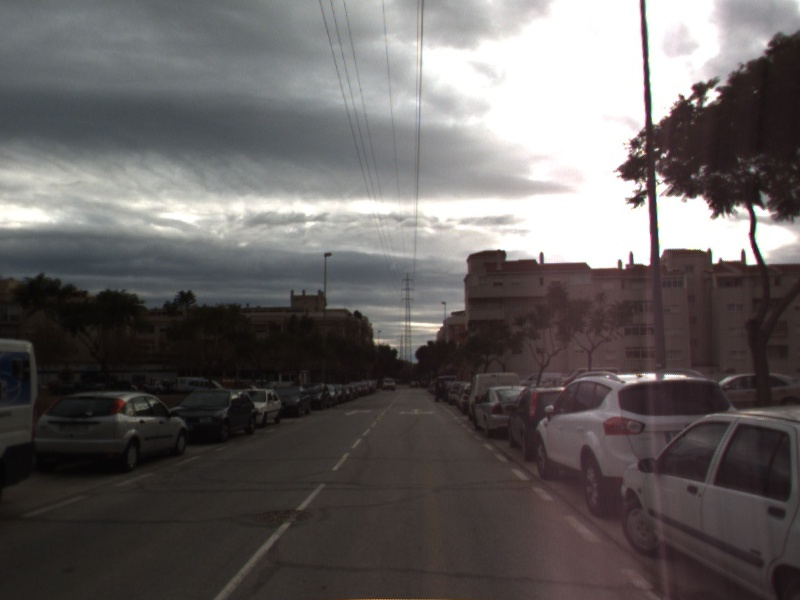STRAIGHT_LEFT_RIGHT: (396, 406, 438, 417)
